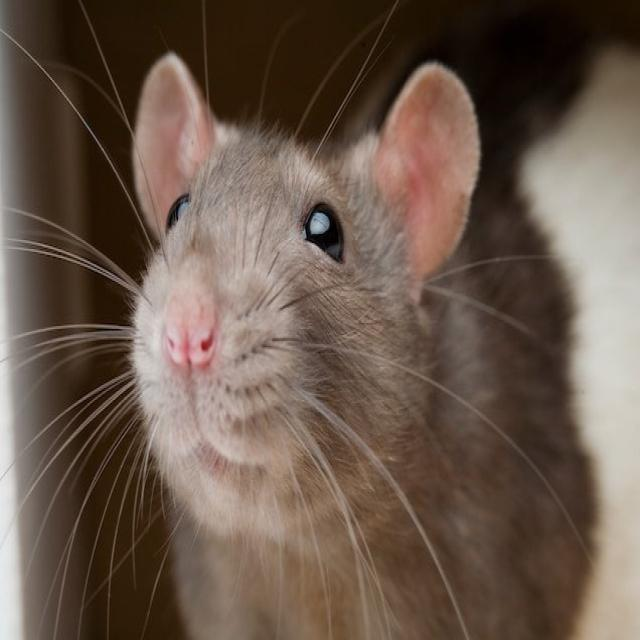rat: (18, 53, 592, 638)
